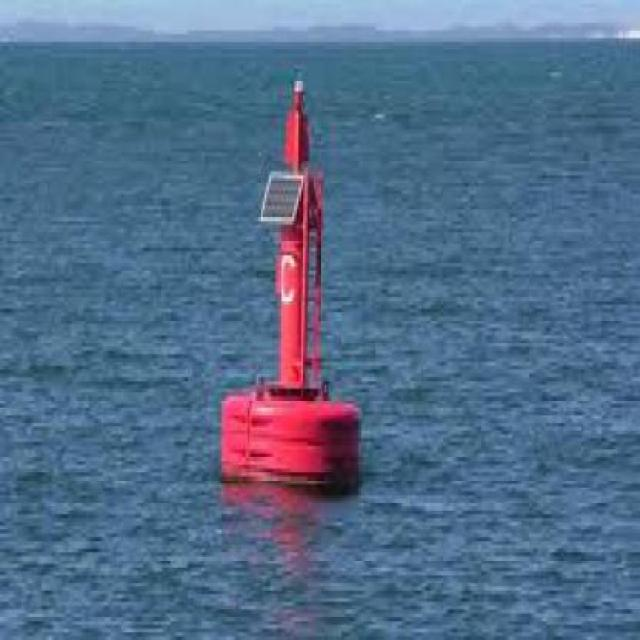buoy: (217, 69, 371, 511)
